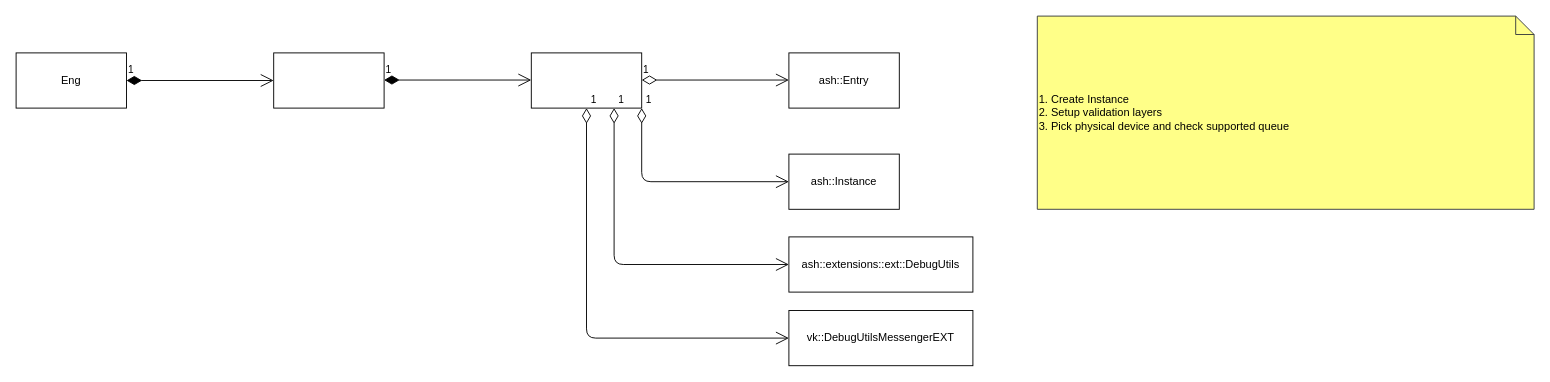
The diagram is 1550 pixels wide and 382 high, and some of its shapes have lost their labels. Here are the shapes that lost their labels. From the top down, the box of each, then its label:
(273, 52, 384, 108): Render
(530, 52, 642, 108): vulkan::Vulkan
